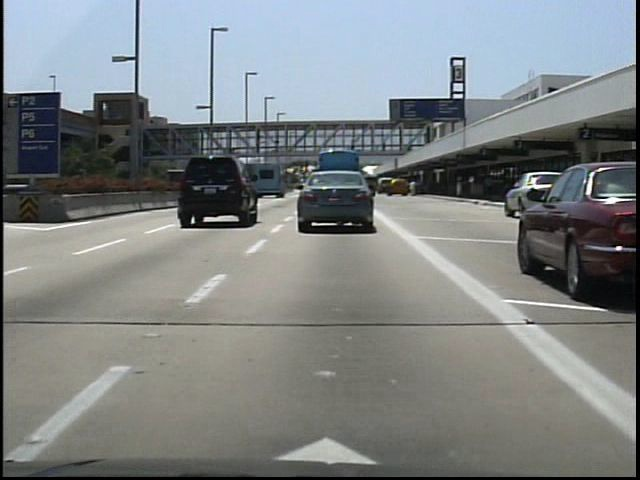person: (403, 176, 418, 202), (379, 136, 393, 158), (345, 136, 359, 156)
